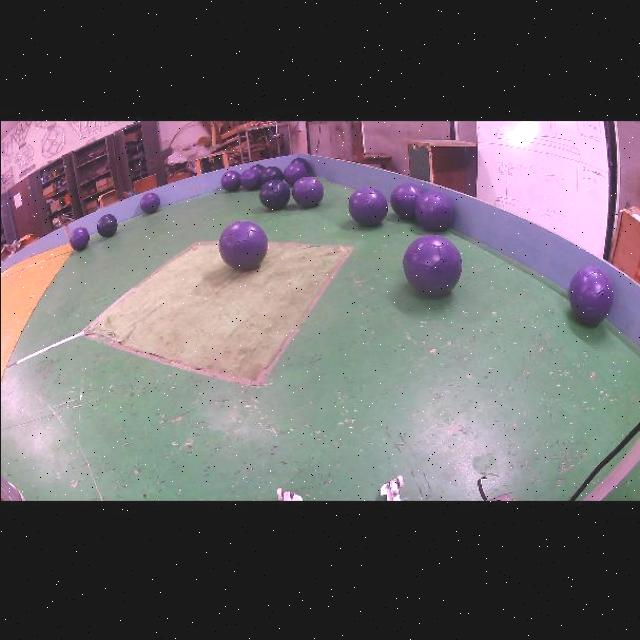B: (260, 178, 290, 209), (96, 214, 117, 236), (260, 165, 283, 184), (290, 157, 311, 173), (250, 164, 263, 171)
P: (403, 234, 462, 296), (568, 265, 613, 325), (219, 220, 267, 269), (414, 190, 454, 230), (348, 186, 388, 224), (390, 182, 423, 219), (291, 176, 323, 206), (283, 162, 307, 186), (68, 226, 89, 250), (139, 191, 159, 213), (220, 169, 240, 191), (240, 168, 260, 189)
